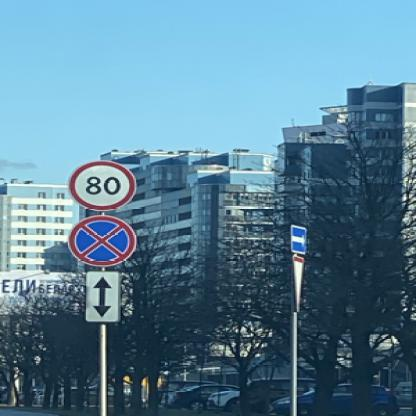speedlimit: (65, 159, 133, 210)
